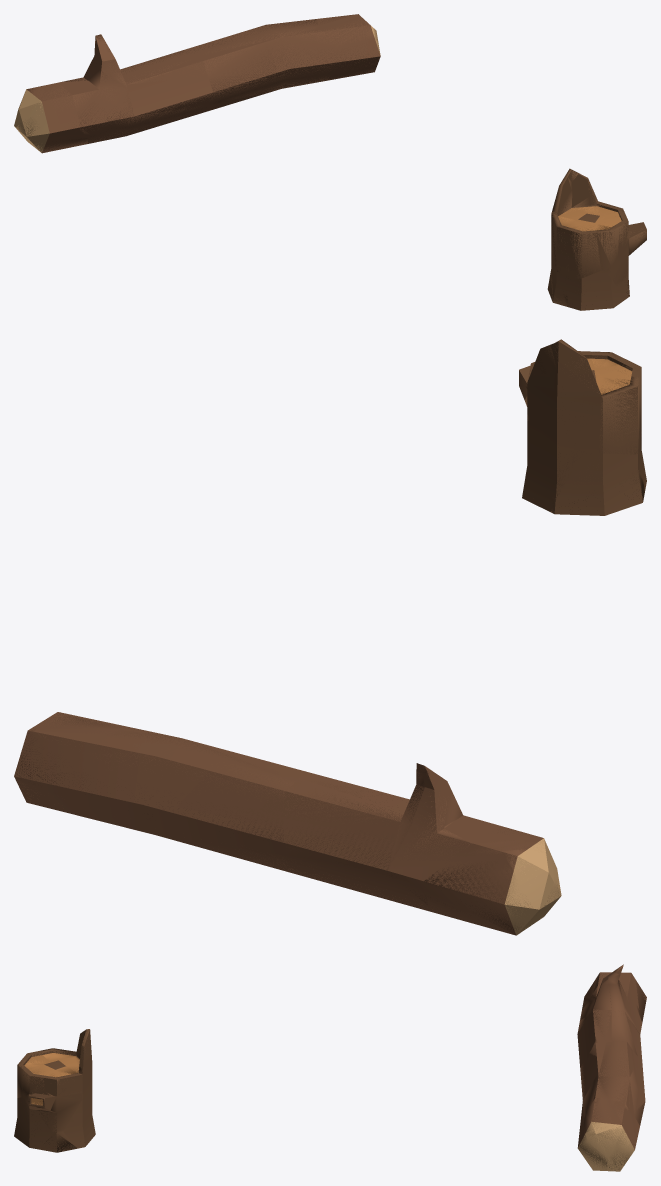
Rendered from wood.fbx.
3 renders of one model, top to bottom at view 1: azimuth 30°, elevation 25°; view 2: azimuth 150°, elevation 25°; view 3: azimuth 270°, elevation 25°, orthographic. The views are drawn at different scales.
Visible parts, largest first — view 1: Branch, Stump1, Branch_cell.005, Branch_cell.001, Branch_cell.003, Branch_cell, Stump1_cell, Branch_cell.006, Stump1_cell.007, Branch_cell.019, Stump1_cell.009, Stump1_cell.001 (+3 smaller); view 2: Branch, Stump1, Branch_cell.015, Branch_cell.016, Stump1_cell.009, Branch_cell.006, Branch_cell, Branch_cell.011; view 3: Branch, Stump1, Branch_cell.006, Branch_cell.016, Stump1_cell.014, Branch_cell, Branch_cell.013, Branch_cell.007, Branch_cell.009, Branch_cell.010, Branch_cell.005, Stump1_cell.005 (+4 smaller).
Boxes of the visible parts, x1,y1,x2,y2 form: Branch: [14, 14, 380, 152]; Stump1: [547, 170, 646, 310]; Branch_cell.005: [203, 30, 334, 110]; Branch_cell.001: [88, 61, 212, 143]; Branch_cell.003: [72, 70, 126, 136]; Branch_cell: [318, 15, 374, 48]; Stump1_cell: [570, 223, 600, 278]; Branch_cell.006: [184, 19, 319, 56]; Stump1_cell.007: [596, 223, 619, 270]; Branch_cell.019: [34, 83, 79, 128]; Stump1_cell.009: [551, 211, 583, 278]; Stump1_cell.001: [603, 255, 629, 296]; Branch: [14, 712, 561, 935]; Stump1: [519, 339, 646, 515]; Branch_cell.015: [424, 844, 530, 935]; Branch_cell.016: [283, 773, 424, 872]; Stump1_cell.009: [598, 376, 639, 454]; Branch_cell.006: [82, 729, 297, 807]; Branch_cell: [35, 713, 122, 746]; Branch_cell.011: [388, 776, 468, 878]; Branch: [577, 964, 646, 1171]; Stump1: [14, 1029, 95, 1152]; Branch_cell.006: [598, 1041, 638, 1113]; Branch_cell.016: [608, 971, 640, 1055]; Stump1_cell.014: [37, 1093, 83, 1132]; Branch_cell: [585, 1098, 628, 1132]; Branch_cell.013: [592, 979, 611, 1041]; Branch_cell.007: [585, 1123, 623, 1157]; Branch_cell.009: [607, 1117, 635, 1171]; Branch_cell.010: [578, 1116, 607, 1170]; Branch_cell.005: [580, 1043, 599, 1118]; Stump1_cell.005: [22, 1065, 50, 1098].
Bounding box in the file's own units: 547 × 180 × 913.
